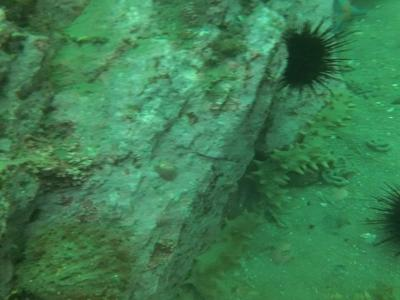holothurian: (242, 142, 328, 229), (182, 213, 264, 295), (296, 93, 357, 167)
urchin: (277, 16, 359, 102), (360, 180, 398, 261)
